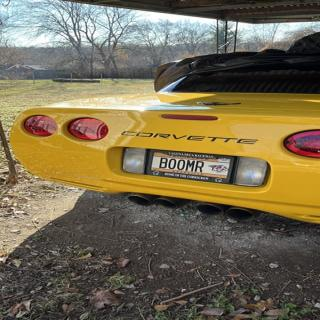license: (148, 151, 236, 186)
